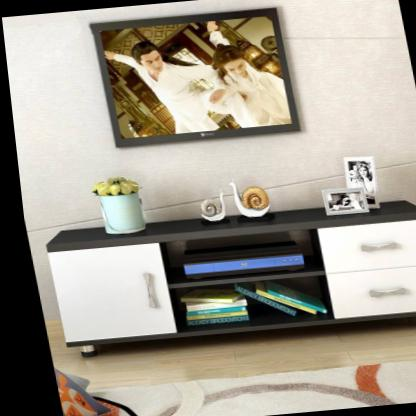TV stand: (30, 194, 416, 362)
